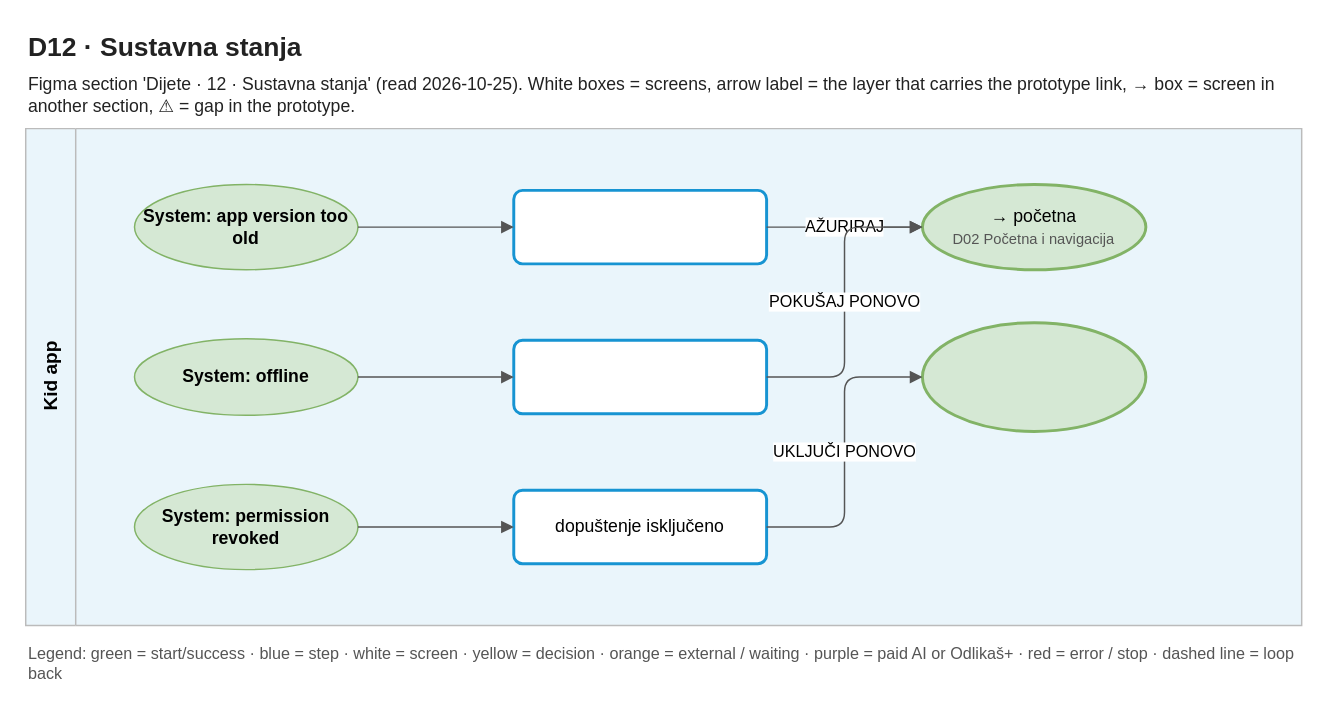
Some shapes in this 1327 by 707 pixel diagram are drawn without their labels. Here are the shapes that lost their labels. From the top down, the centre of each, then its label:
At pixel 639 226: "obavezno ažuriranje".
At pixel 639 376: "nema interneta".
At pixel 1033 376: "→ dopuštenja D01 Povezivanje, dogovor i posta".
